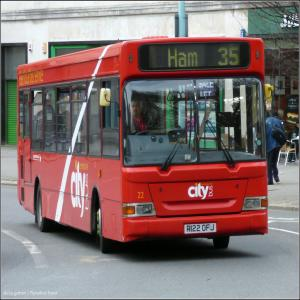Vehicle-registration-plate: (185, 224, 217, 235)
